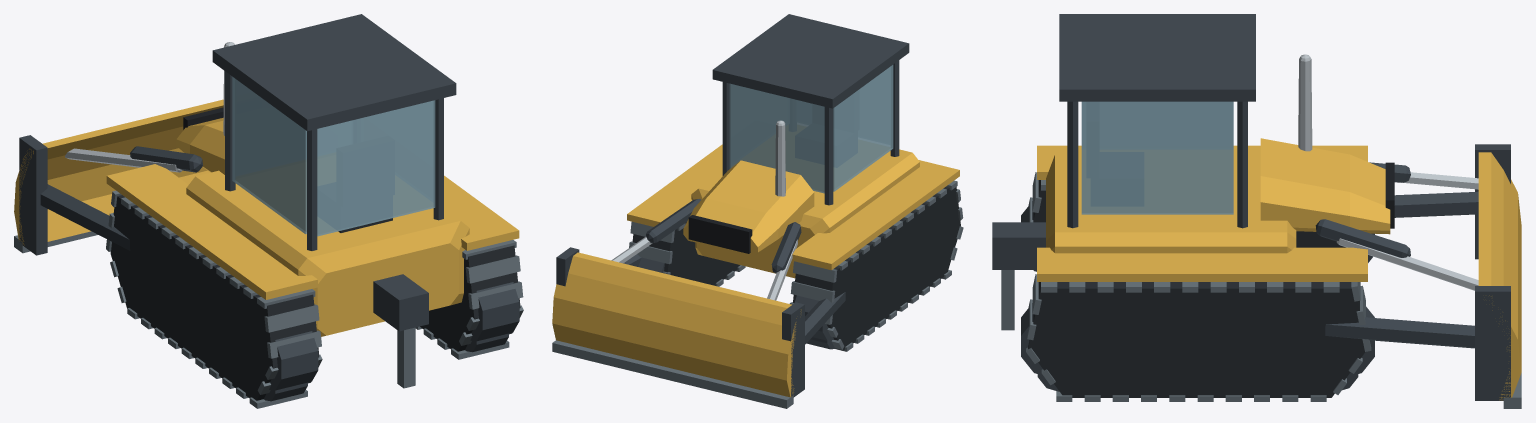
Rendered from LAND_10.obj.
The picture shows the model from 3 angles, left to right: view 1: azimuth 30°, elevation 25°; view 2: azimuth 150°, elevation 25°; view 3: azimuth 270°, elevation 25°; orthographic projection. The views are drawn at different scales.
Visible parts, largest first — view 1: track_L, cab_glass, chassis, cab_roof, blade, track_fenders, track_R, ripper, cab_frame, hydraulics, push_arms, engine_hood; view 2: blade, track_L, cab_glass, cab_roof, track_fenders, engine_hood, chassis, track_R, cab_frame, hydraulics, grille, push_arms (+1 smaller); view 3: track_R, cab_glass, cab_roof, chassis, blade, track_fenders, engine_hood, push_arms, hydraulics, ripper, cab_frame, track_L (+2 smaller).
Part boxes in pixels (x1,y1,x2,y2): track_L: (106,190,322,408); cab_glass: (232,76,435,236); chassis: (186,170,469,336); cab_roof: (212,14,456,131); blade: (14,99,223,255); track_fenders: (106,164,519,299); track_R: (415,240,523,359); ripper: (373,274,428,388); cab_frame: (225,71,443,250); hydraulics: (65,146,202,172); push_arms: (40,184,130,250); engine_hood: (176,117,224,174); blade: (552,247,804,408); track_L: (789,180,963,351); cab_glass: (729,65,893,193); cab_roof: (712,14,909,108); track_fenders: (627,144,959,270); engine_hood: (683,160,814,256); chassis: (691,149,919,278); track_R: (629,221,745,286); cab_frame: (722,60,899,205); hydraulics: (611,199,801,300); grille: (688,215,752,253); push_arms: (623,254,845,344); track_R: (1021,274,1374,401); cab_glass: (1081,101,1233,214); cab_roof: (1059,14,1255,101); chassis: (1046,154,1296,253); blade: (1475,144,1521,408); track_fenders: (1037,145,1367,281); engine_hood: (1260,138,1390,234); push_arms: (1325,191,1478,348); hydraulics: (1315,162,1478,290); ripper: (992,222,1045,330); cab_frame: (1067,101,1247,228); track_L: (1021,172,1374,271).
Size of the model in its own units: 3.9 by 3.54 by 5.92.
